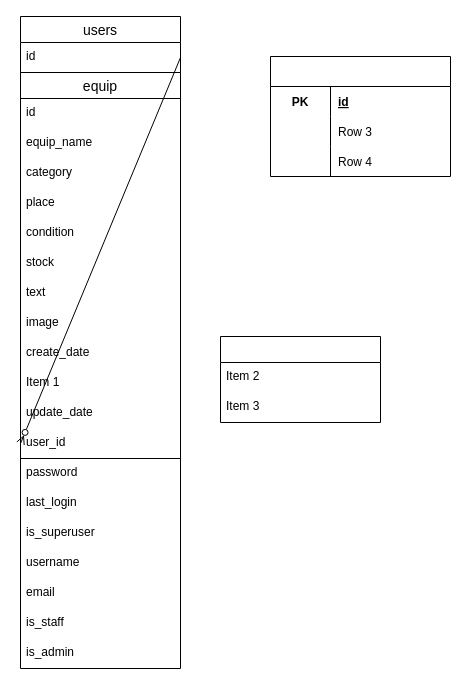
Image size: 467x685. Some labels were removed from this diagram. The box of each missing label's shape, as (x1, y1, x2, y2) in pixels:
order: (220, 336, 380, 422)
Table: (270, 56, 450, 176)
